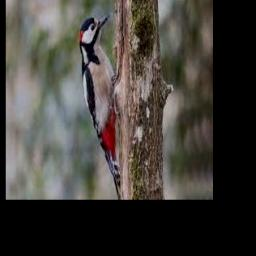Woodpecker: (79, 13, 121, 200)
